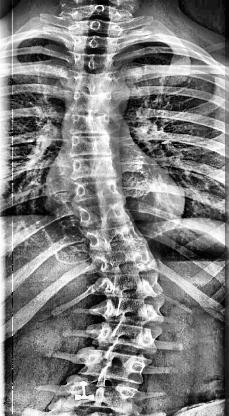Vertebrae: (67, 378, 135, 412), (82, 350, 144, 382), (100, 296, 160, 328), (93, 323, 157, 353), (92, 248, 152, 276), (84, 223, 146, 250), (99, 274, 157, 300), (70, 180, 126, 206), (75, 203, 133, 228), (69, 50, 121, 76), (66, 134, 116, 160), (69, 158, 122, 182), (70, 71, 120, 95), (70, 91, 116, 117), (69, 17, 123, 37), (70, 5, 128, 23), (66, 115, 112, 136), (69, 35, 122, 53)
